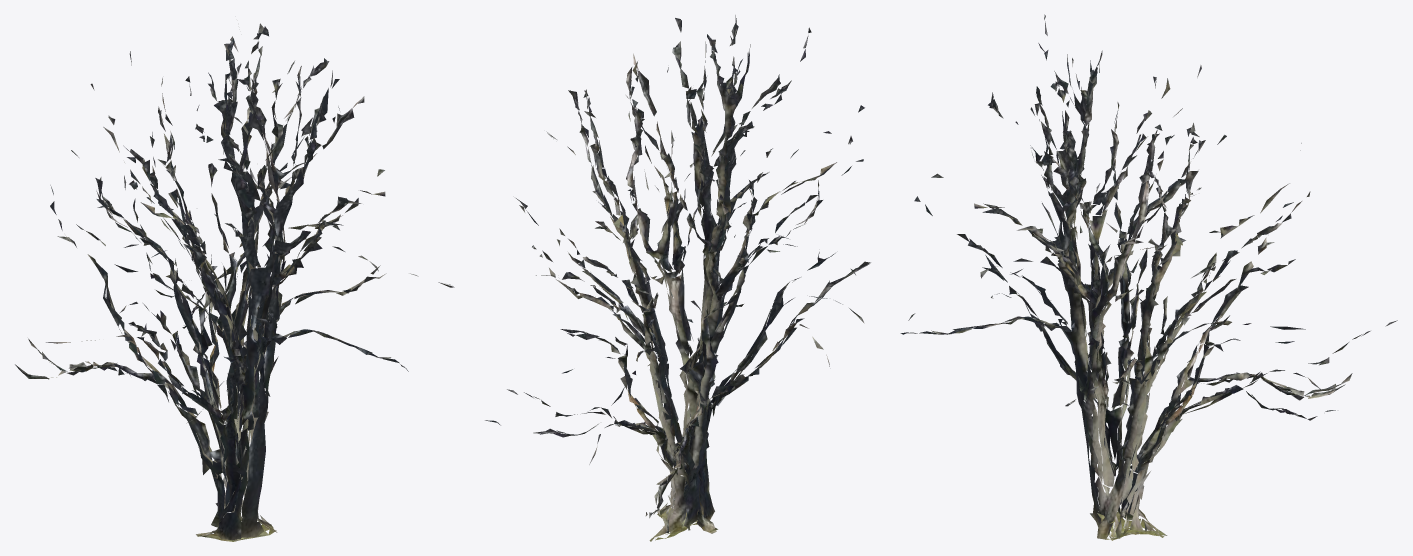
File: desert_tree.glb
3 renders of one model, left to right at view 1: azimuth 30°, elevation 25°; view 2: azimuth 150°, elevation 25°; view 3: azimuth 270°, elevation 25°, orthographic. The views are drawn at different scales.
Visible parts, largest first — view 1: desert_tree; view 2: desert_tree; view 3: desert_tree.
Part boxes in pixels (box(x1,y1,x2,y2)): desert_tree: box(15, 23, 454, 541); desert_tree: box(485, 15, 870, 541); desert_tree: box(900, 14, 1397, 540).
Bounding box in the file's own units: 4.39 × 6 × 5.67.
Materials: 1 (1 with a texture image).
